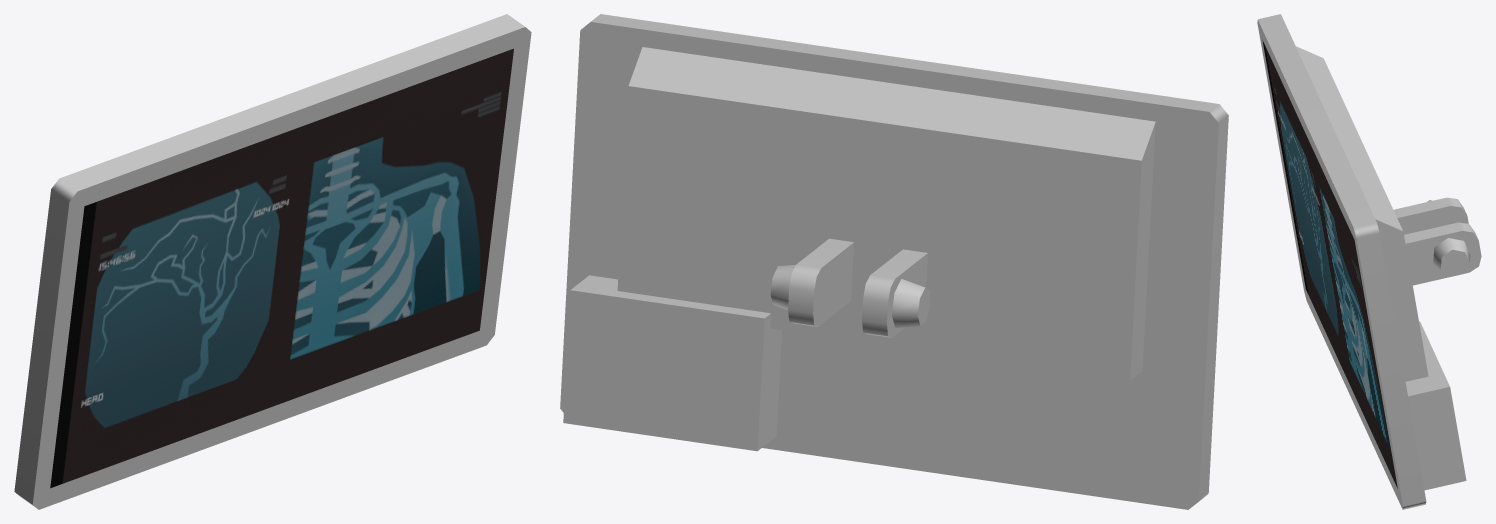
Rendered from Monitor_07_Part_04.fbx.
3 views of the same model, side by side, from view 1: azimuth 30°, elevation 25°; view 2: azimuth 150°, elevation 25°; view 3: azimuth 270°, elevation 25° (orthographic). The views are drawn at different scales.
Visible parts, largest first — view 1: Monitor_07_Part_04; view 2: Monitor_07_Part_04; view 3: Monitor_07_Part_04.
Part boxes in pixels (x1,y1,x2,y2): Monitor_07_Part_04: (14, 14, 531, 509); Monitor_07_Part_04: (560, 14, 1228, 509); Monitor_07_Part_04: (1257, 14, 1481, 509).
Size of the model in its own units: 65.51 by 28.07 by 39.98.
